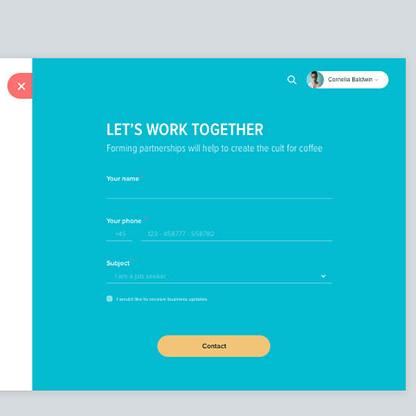button: (157, 335, 269, 357)
